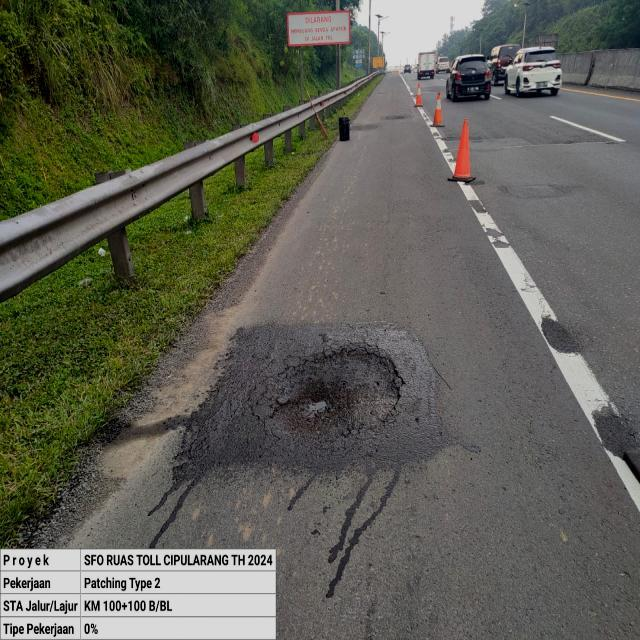Buraco: (265, 344, 409, 440)
